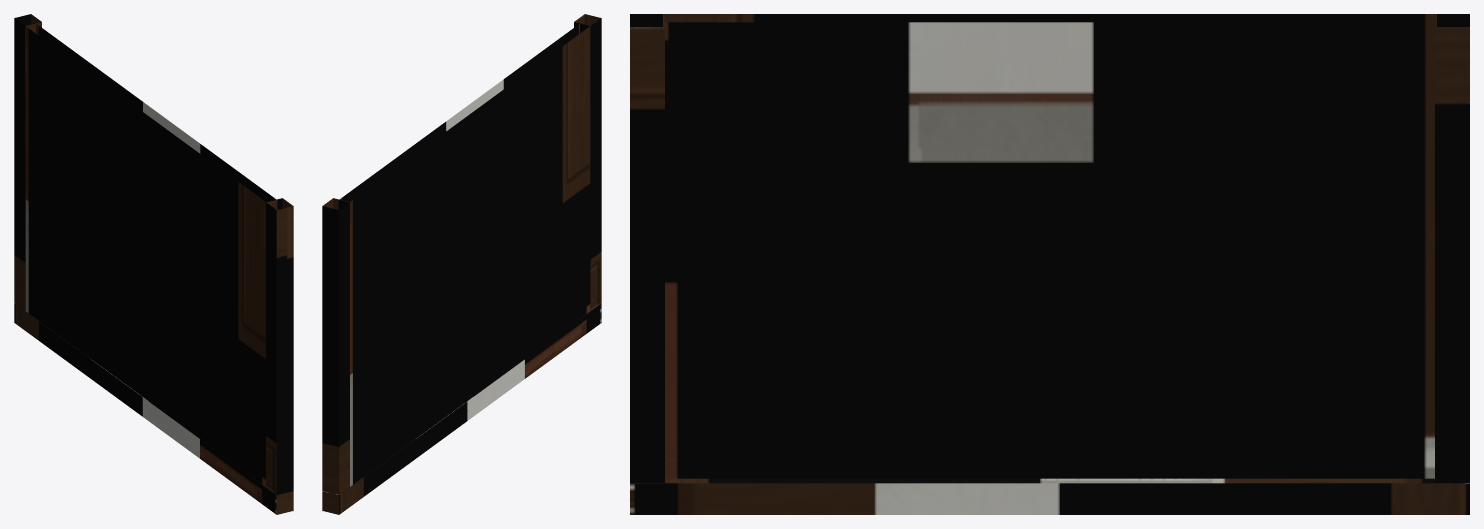
The picture shows the model from 3 angles, left to right: view 1: azimuth 30°, elevation 25°; view 2: azimuth 150°, elevation 25°; view 3: azimuth 270°, elevation 25°; orthographic projection. The views are drawn at different scales.
Size of the model in its own units: 0.04 by 0.6955 by 1.08.
